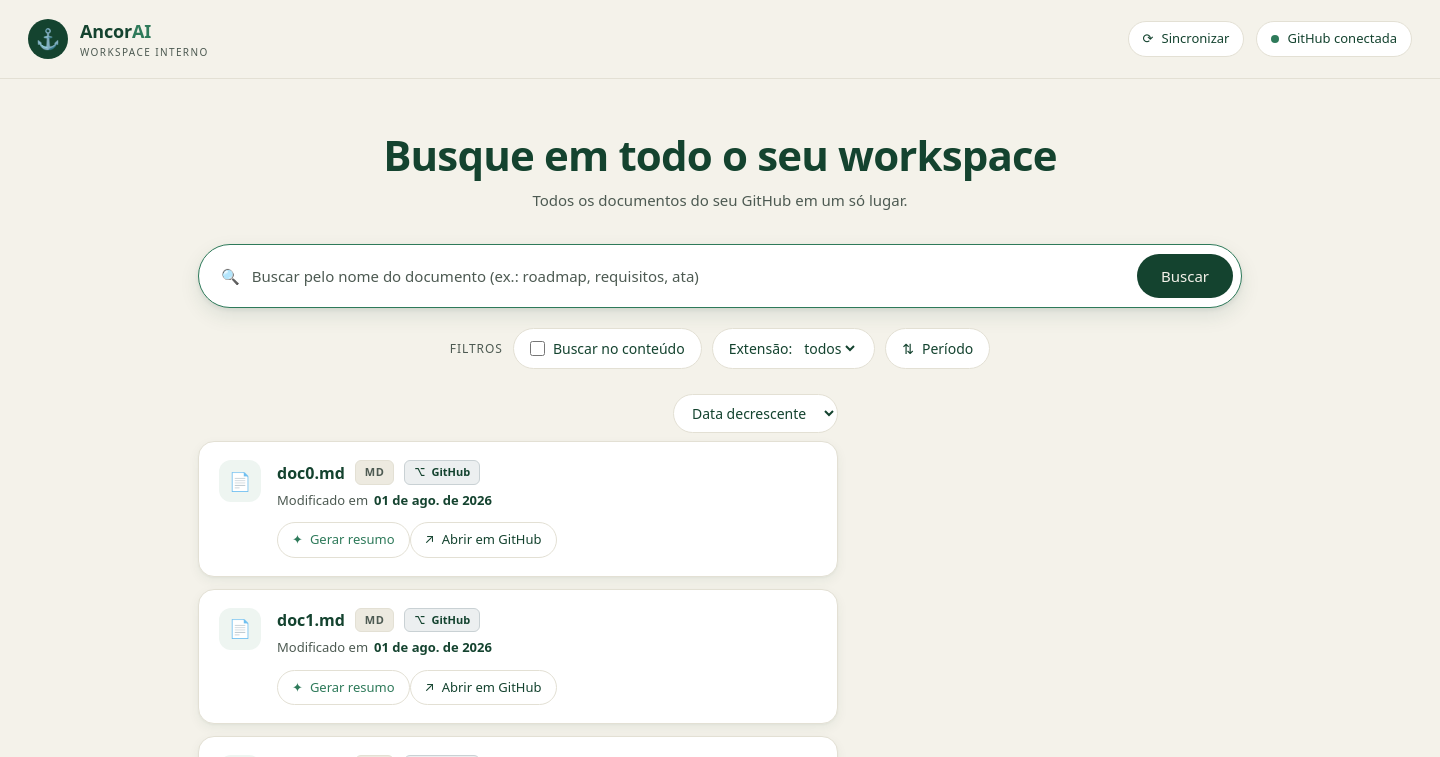
Test: contador de resultados › mostra o total encontrado, e não o tamanho da página
This screenshot has width=1440, height=757.
Replace the text in the search field labelled "Buscar pelo nome do documento" with "doc": (688, 276) [252, 251, 1125, 301]
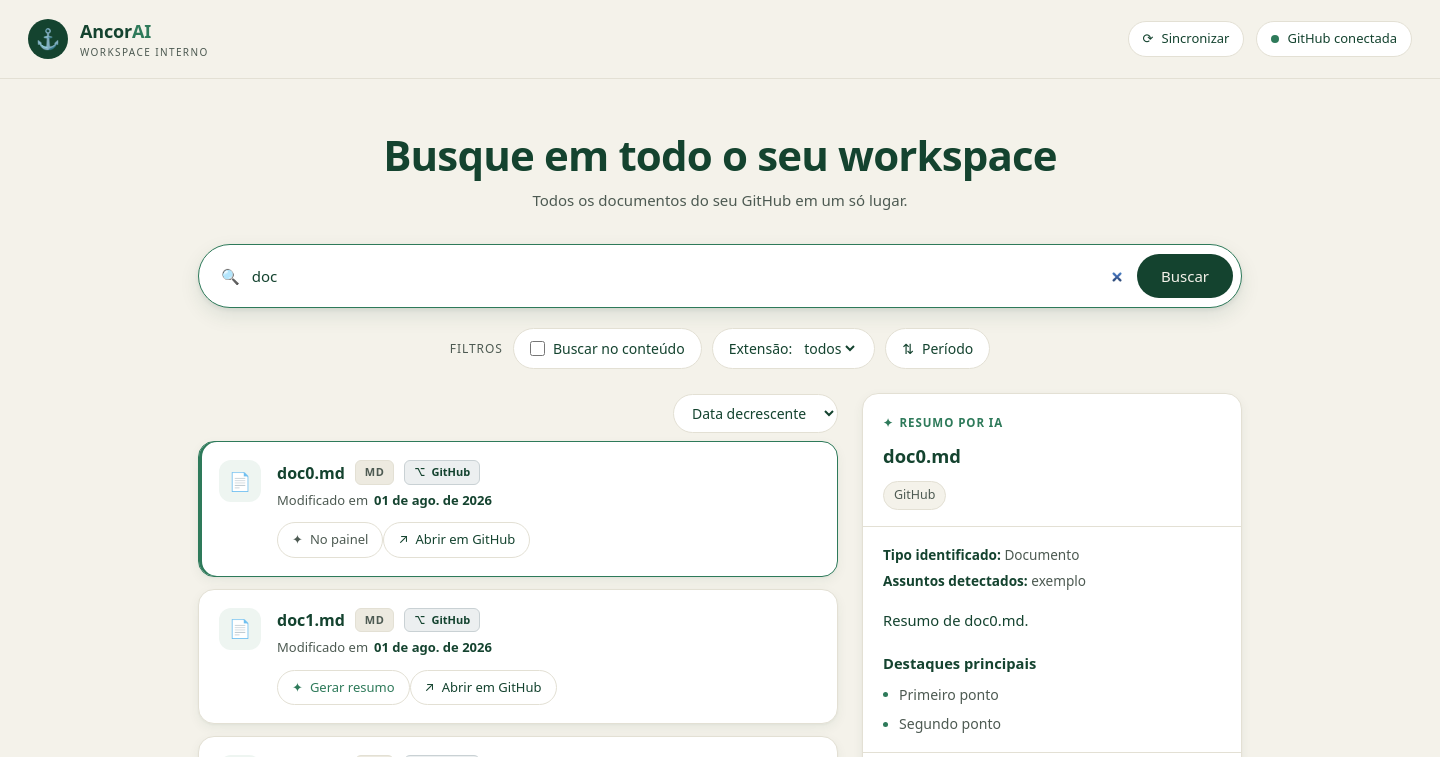
Click the button "Buscar": click(1185, 276) [1137, 254, 1233, 298]
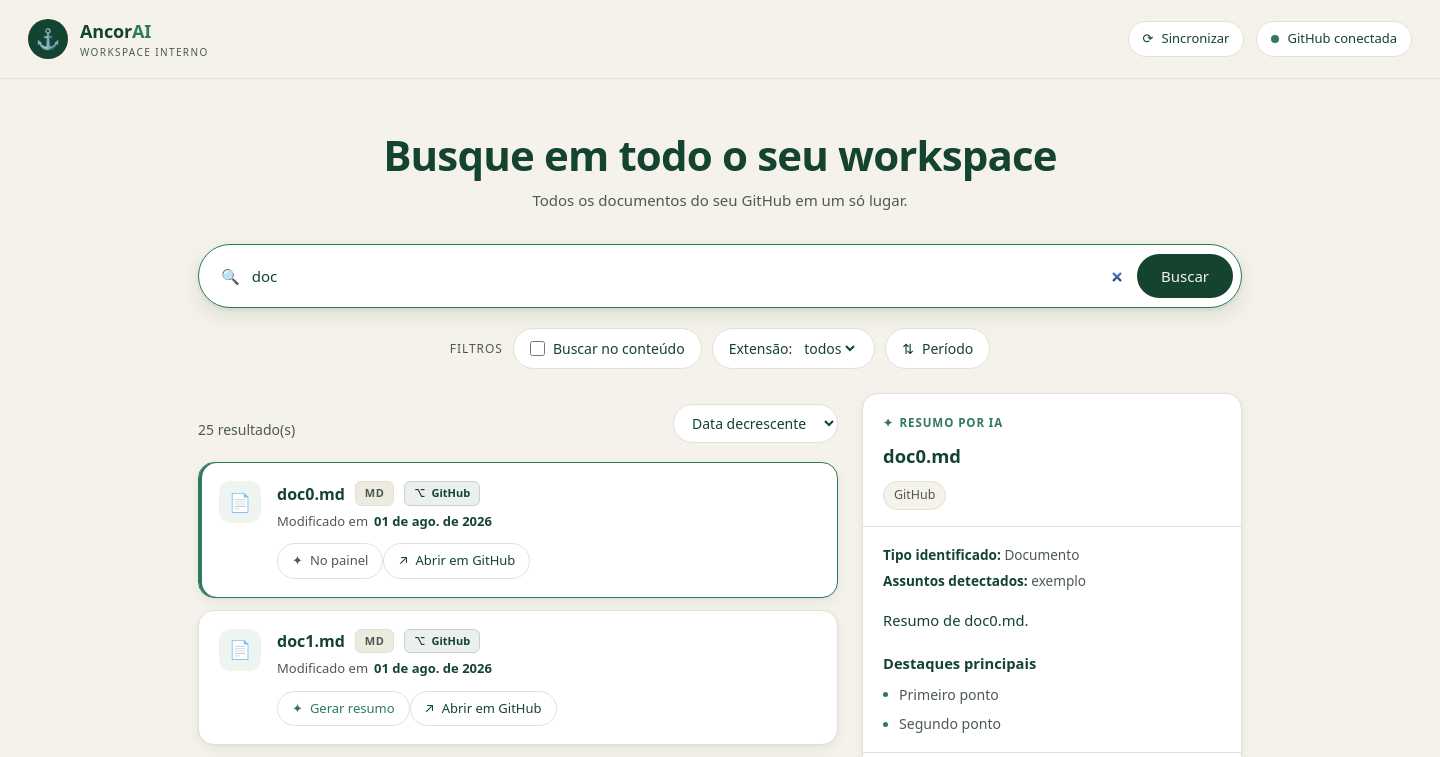
Result: the text "25 resultado(s)" is shown at [198, 419, 295, 440]
